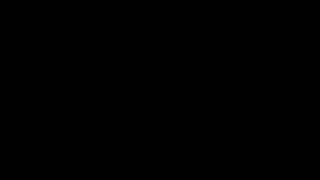turn_left: (209, 42, 234, 66)
